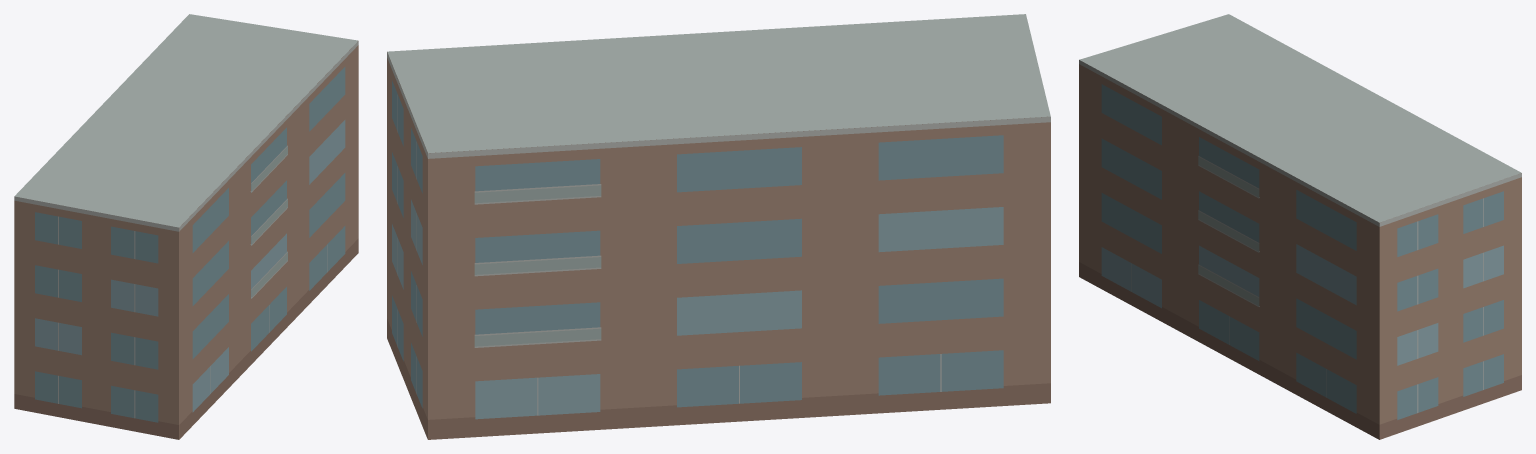
File: survey-upis-32703476.glb
3 renders of one model, left to right at view 1: azimuth 30°, elevation 25°; view 2: azimuth 150°, elevation 25°; view 3: azimuth 270°, elevation 25°, orthographic. The views are drawn at different scales.
Visible parts, largest first — view 1: survey-upis-32703476.tmp; view 2: survey-upis-32703476.tmp; view 3: survey-upis-32703476.tmp.
Part boxes in pixels (<box>): survey-upis-32703476.tmp: <box>14,14,358,439</box>; survey-upis-32703476.tmp: <box>387,14,1050,439</box>; survey-upis-32703476.tmp: <box>1079,14,1521,439</box>.
Size of the model in its own units: 25.35 by 12.3 by 22.73.
